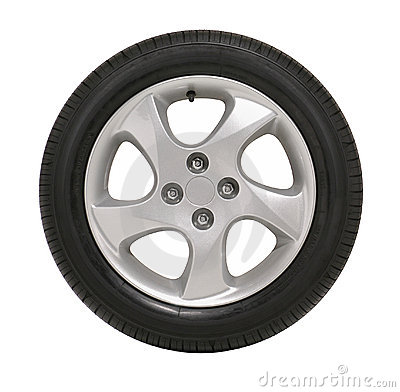tire: (39, 29, 364, 353)
